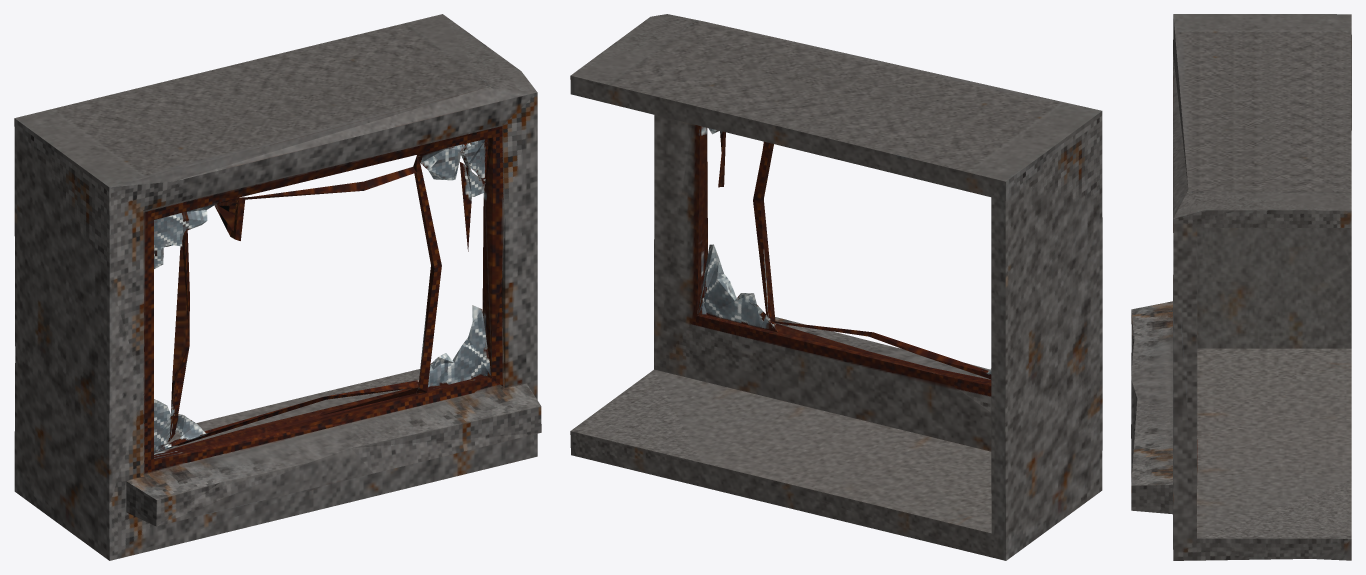
The model's file is Meshy_AI_model.glb.
3 renders of one model, left to right at view 1: azimuth 30°, elevation 25°; view 2: azimuth 150°, elevation 25°; view 3: azimuth 270°, elevation 25°, orthographic. The views are drawn at different scales.
Visible parts, largest first — view 1: output_unwrapped; view 2: output_unwrapped; view 3: output_unwrapped.
Part boxes in pixels (x1=…): output_unwrapped: x1=14, y1=14, x2=541, y2=560; output_unwrapped: x1=570, y1=14, x2=1102, y2=560; output_unwrapped: x1=1131, y1=14, x2=1351, y2=560.
Bounding box in the file's own units: 1.9 × 1.59 × 0.9039.
Materials: 1 (1 with a texture image).
